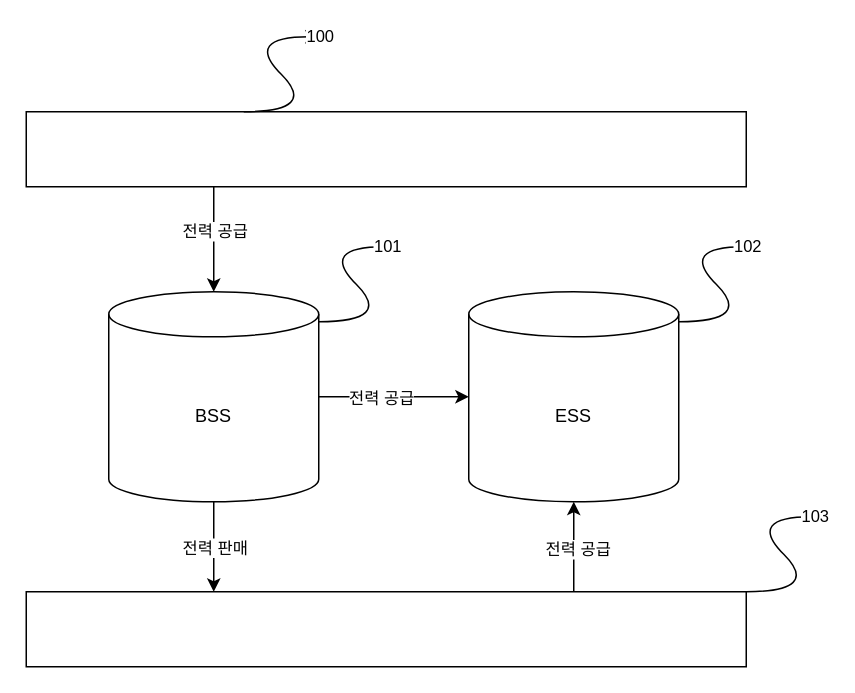
Some shapes in this 855 by 693 pixel diagram are drawn without their labels. The shapes that lost their labels are listed below. From the top down, each one's box as (x1, y1, x2, y2) in pixels, then its label:
(25, 110, 746, 187): 태양광 발전 시설
(25, 590, 746, 667): 전력 관리 시설
